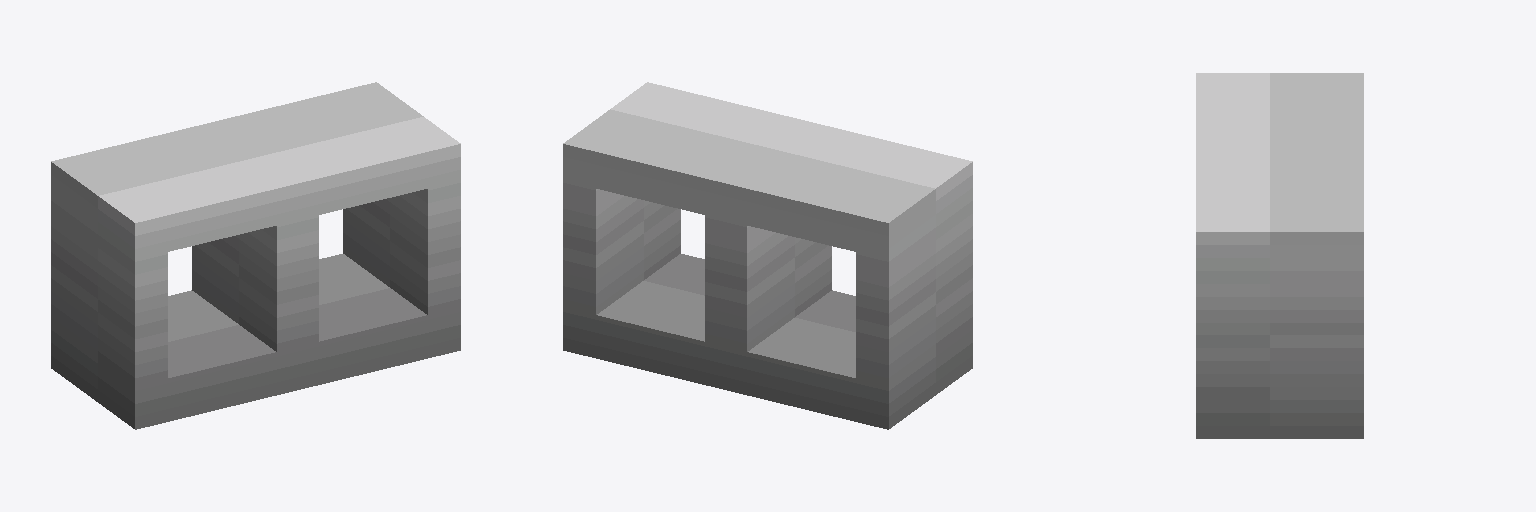
3 views of the same model, side by side, from view 1: azimuth 30°, elevation 25°; view 2: azimuth 150°, elevation 25°; view 3: azimuth 270°, elevation 25° (orthographic).
Visible parts, largest first — view 1: Cinderblock1; view 2: Cinderblock1; view 3: Cinderblock1.
Boxes of the visible parts, box(x1,y1,x2,y2) form: Cinderblock1: box(51, 82, 460, 429); Cinderblock1: box(563, 82, 972, 429); Cinderblock1: box(1196, 73, 1363, 438).
Bounding box in the file's own units: 2.42 × 1.47 × 1.09.
Materials: 1 (1 with a texture image).